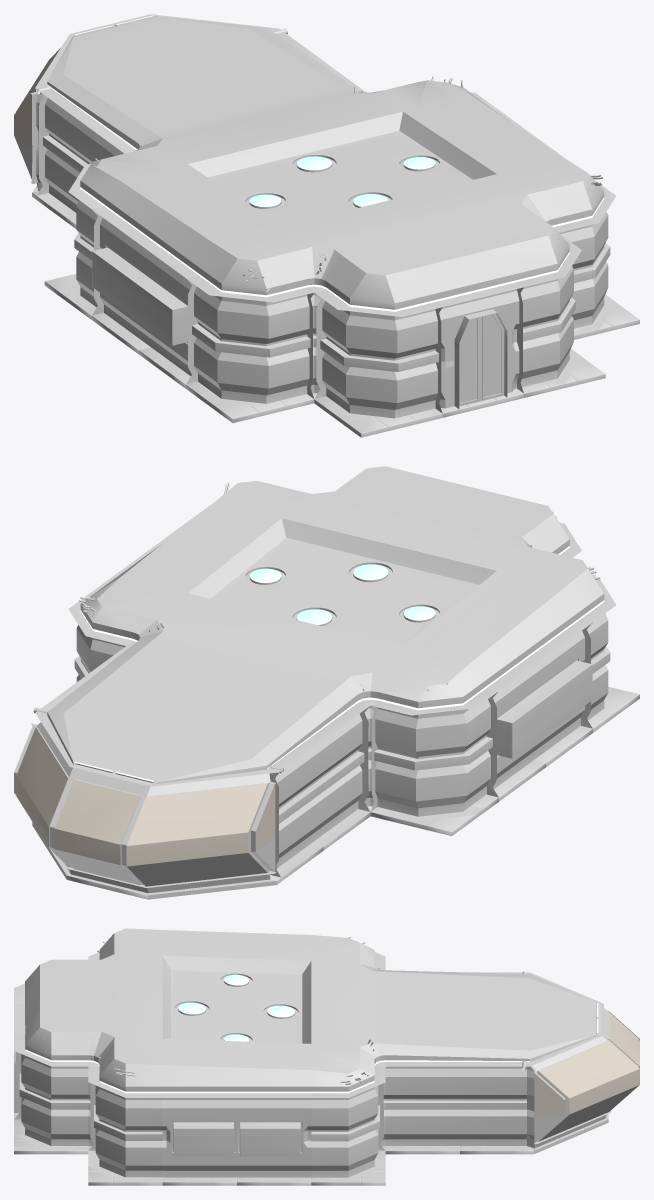
File: MutterschiffModularAssets (4).fbx
3 renders of one model, top to bottom at view 1: azimuth 30°, elevation 25°; view 2: azimuth 150°, elevation 25°; view 3: azimuth 270°, elevation 25°, orthographic. The views are drawn at different scales.
Visible parts, largest first — view 1: Roof, Roof_Lamp, Ship_Wall_Corner_Large, Ship_Wall_Corner_Large.001, Ship_Wall_1_ShipComp, Ship_Wall_Corner_Large.005, Ship_Wall_2_4m, Ship_Door_Frame, Ship_Wall_Corner_Large.003, Door, Ship_Wall_Corner_Large.004, Ship_Floor.027 (+10 smaller); view 2: Roof, Ship_Front_Window, Roof_Lamp, Ship_Wall_Corner_Large.004, Ship_Wall_2_4m, Ship_Wall_1_ShipComp, Ship_Front_Frame, Ship_Wall_Corner_Large, Ship_Wall_Corner_Large.002, Ship_Floor.028, Ship_Floor.027, Ship_Floor_Corner (+3 smaller); view 3: Roof, Ship_Wall_2_ShipComp, Roof_Lamp, Ship_Wall_2_4m.001, Ship_Front_Window, Ship_Wall_Corner_Large.003, Ship_Wall_Corner_Large.005, Ship_Wall_Corner_Large.002, Ship_Front_Frame, Ship_Floor.029, Ship_Floor.002, Ship_Floor.016 (+7 smaller).
Part boxes in pixels (x1=…): Roof: x1=37, y1=15, x2=604, y2=311; Roof_Lamp: x1=188, y1=111, x2=496, y2=226; Ship_Wall_Corner_Large: x1=186, y1=275, x2=313, y2=406; Ship_Wall_Corner_Large.001: x1=314, y1=289, x2=442, y2=421; Ship_Wall_1_ShipComp: x1=92, y1=206, x2=197, y2=383; Ship_Wall_Corner_Large.005: x1=517, y1=234, x2=581, y2=393; Ship_Wall_2_4m: x1=37, y1=89, x2=135, y2=224; Ship_Door_Frame: x1=435, y1=282, x2=523, y2=409; Ship_Wall_Corner_Large.003: x1=554, y1=180, x2=616, y2=335; Door: x1=456, y1=313, x2=505, y2=406; Ship_Wall_Corner_Large.004: x1=68, y1=163, x2=103, y2=315; Ship_Floor.027: x1=185, y1=382, x2=314, y2=422; Roof: x1=33, y1=466, x2=604, y2=784; Ship_Front_Window: x1=14, y1=725, x2=275, y2=886; Roof_Lamp: x1=188, y1=518, x2=496, y2=645; Ship_Wall_Corner_Large.004: x1=370, y1=688, x2=498, y2=821; Ship_Wall_2_4m: x1=269, y1=702, x2=370, y2=877; Ship_Wall_1_ShipComp: x1=487, y1=619, x2=592, y2=797; Ship_Front_Frame: x1=31, y1=711, x2=280, y2=893; Ship_Wall_Corner_Large: x1=581, y1=577, x2=615, y2=727; Ship_Wall_Corner_Large.002: x1=68, y1=592, x2=132, y2=681; Ship_Floor.028: x1=370, y1=795, x2=498, y2=835; Ship_Floor.027: x1=588, y1=687, x2=639, y2=732; Ship_Floor_Corner: x1=148, y1=879, x2=276, y2=899; Roof: x1=25, y1=928, x2=600, y2=1093; Ship_Wall_2_ShipComp: x1=162, y1=1093, x2=311, y2=1182; Roof_Lamp: x1=162, y1=955, x2=311, y2=1043; Ship_Wall_2_4m.001: x1=385, y1=1062, x2=526, y2=1150; Ship_Front_Window: x1=534, y1=1010, x2=639, y2=1143; Ship_Wall_Corner_Large.003: x1=88, y1=1066, x2=162, y2=1182; Ship_Wall_Corner_Large.005: x1=14, y1=1035, x2=88, y2=1150; Ship_Wall_Corner_Large.002: x1=311, y1=1066, x2=385, y2=1182; Ship_Front_Frame: x1=527, y1=972, x2=611, y2=1148; Ship_Floor.029: x1=311, y1=1151, x2=385, y2=1185; Ship_Floor.002: x1=14, y1=1119, x2=88, y2=1154; Ship_Floor.016: x1=237, y1=1177, x2=311, y2=1185.
Bounding box in the file's own units: 1032 × 330 × 1684.
